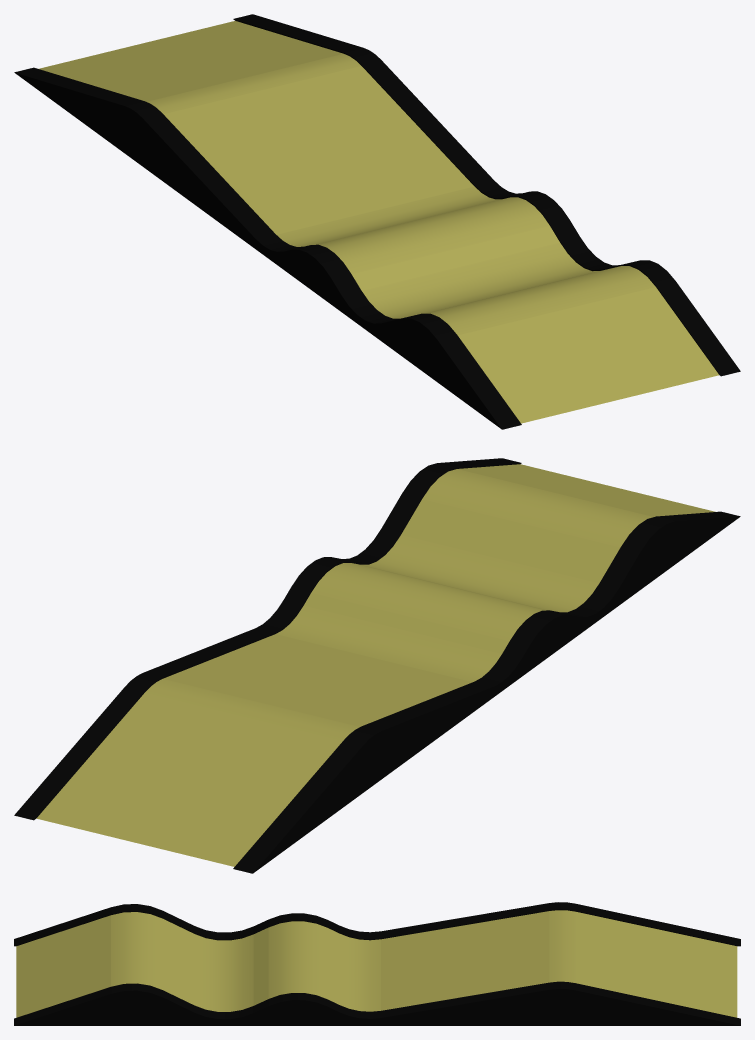
File: rumble_new.dae
The picture shows the model from 3 angles, top to bottom: view 1: azimuth 30°, elevation 25°; view 2: azimuth 150°, elevation 25°; view 3: azimuth 270°, elevation 25°; orthographic projection. The views are drawn at different scales.
Parts seen in each view (by area): view 1: Pavement, Curb; view 2: Pavement, Curb; view 3: Pavement, Curb.
Boxes of the visible parts, x1,y1,x2,y2 form: Pavement: (38, 21, 718, 423); Curb: (14, 14, 740, 429); Pavement: (36, 464, 715, 866); Curb: (14, 458, 740, 873); Pavement: (16, 910, 737, 1017); Curb: (14, 902, 740, 1025).
Size of the model in its own units: 2.4 by 8.5 by 0.4763.
